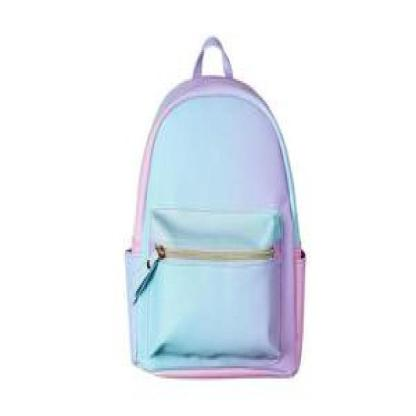bag: (119, 32, 310, 383)
